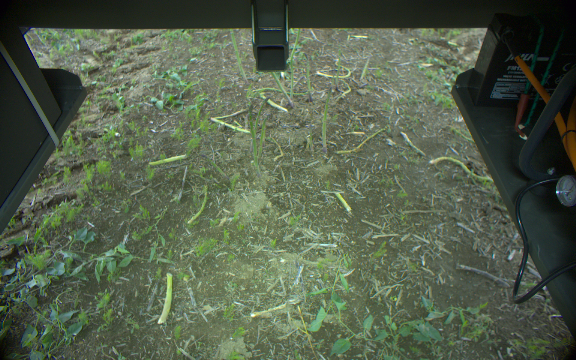aspa: (225, 28, 248, 84), (248, 104, 260, 171), (321, 86, 332, 154), (270, 71, 292, 105), (301, 58, 314, 103), (285, 27, 301, 63), (252, 96, 268, 128), (360, 55, 373, 80), (258, 117, 268, 147), (306, 122, 314, 153), (289, 59, 294, 97)
